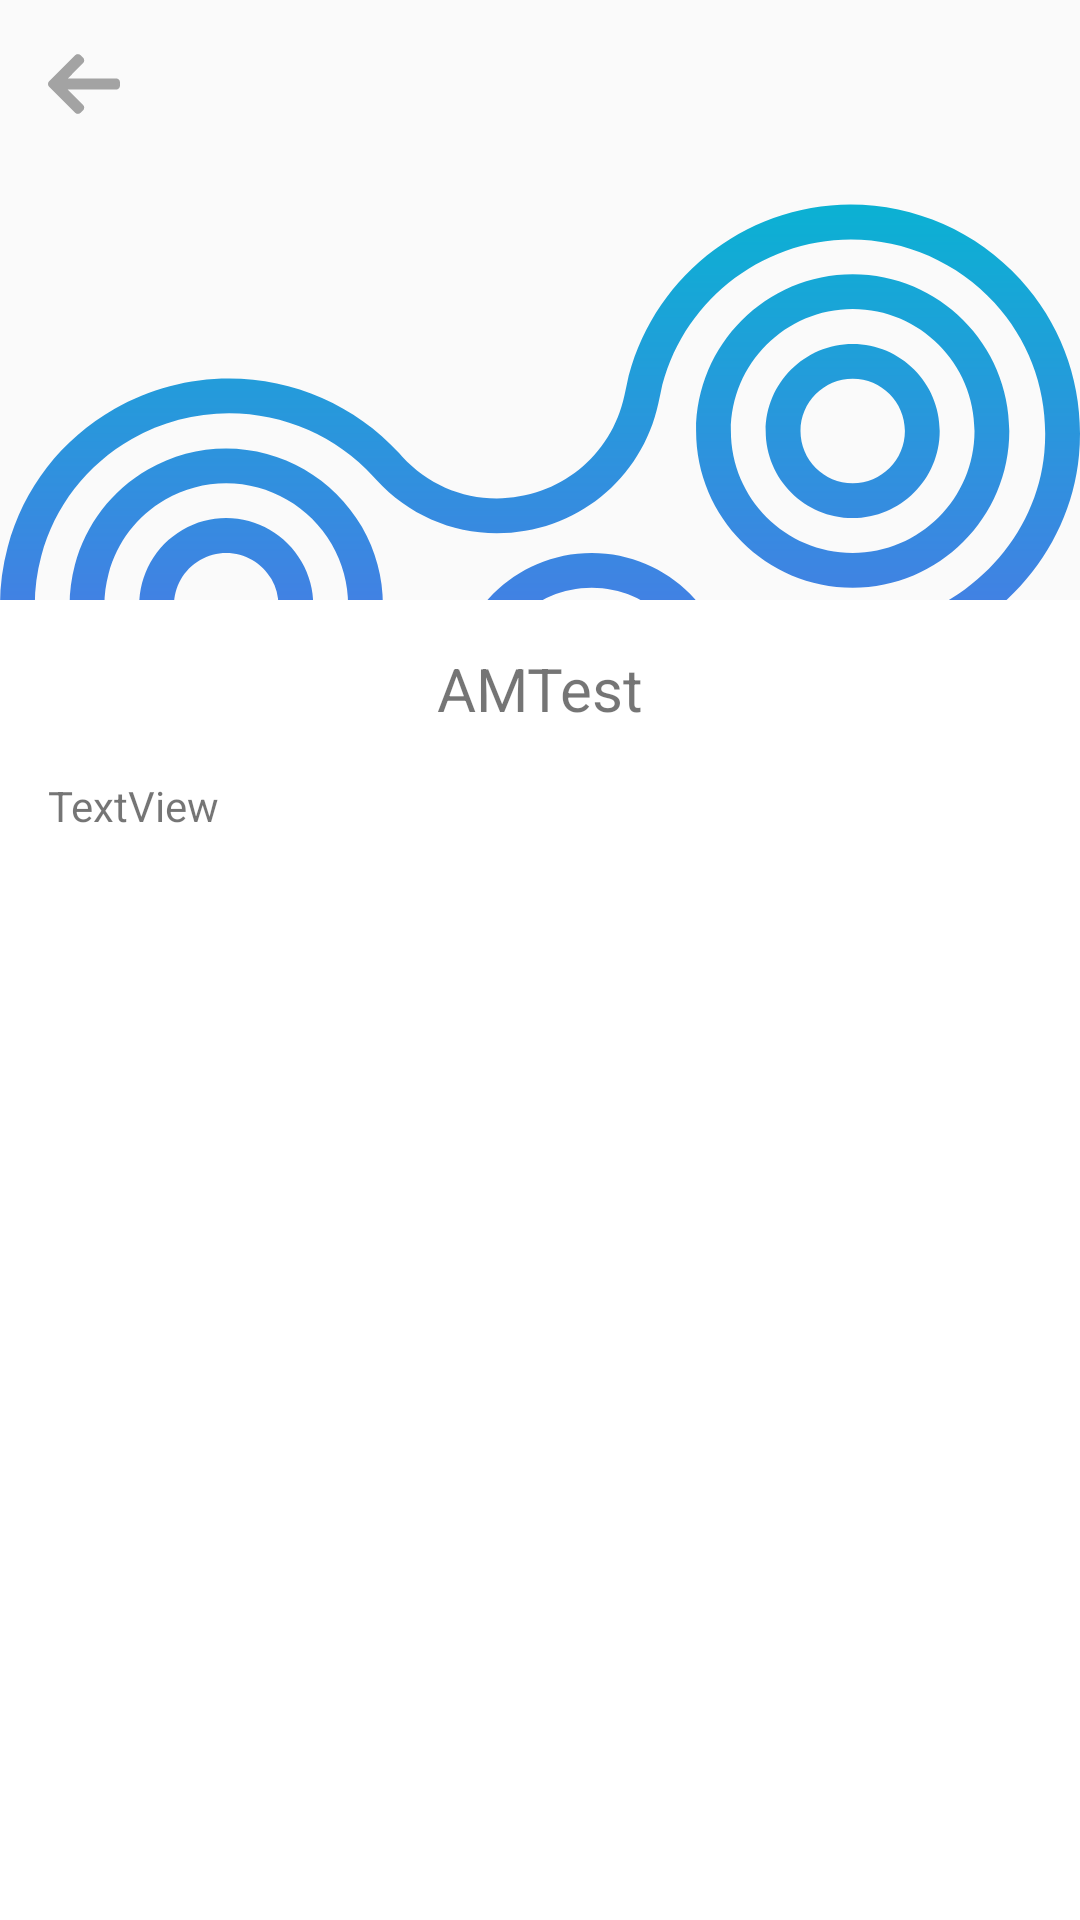

Named icons in this screenshot (1080*1920) and their bounding boxes, (x1, y1, x2, y2):
left arrow: (48, 54, 120, 114)
